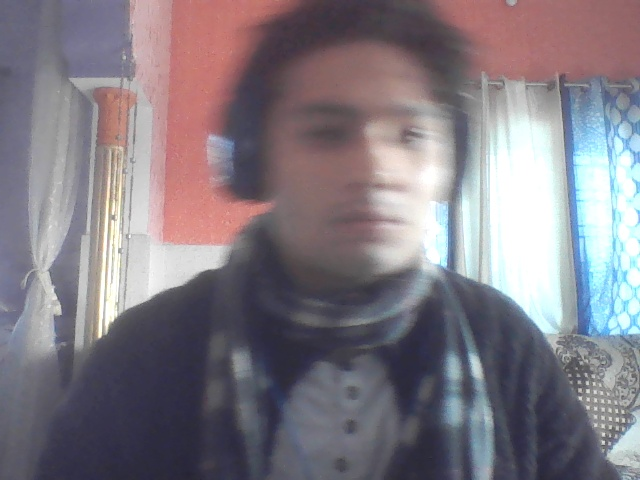real: (242, 0, 471, 324)
